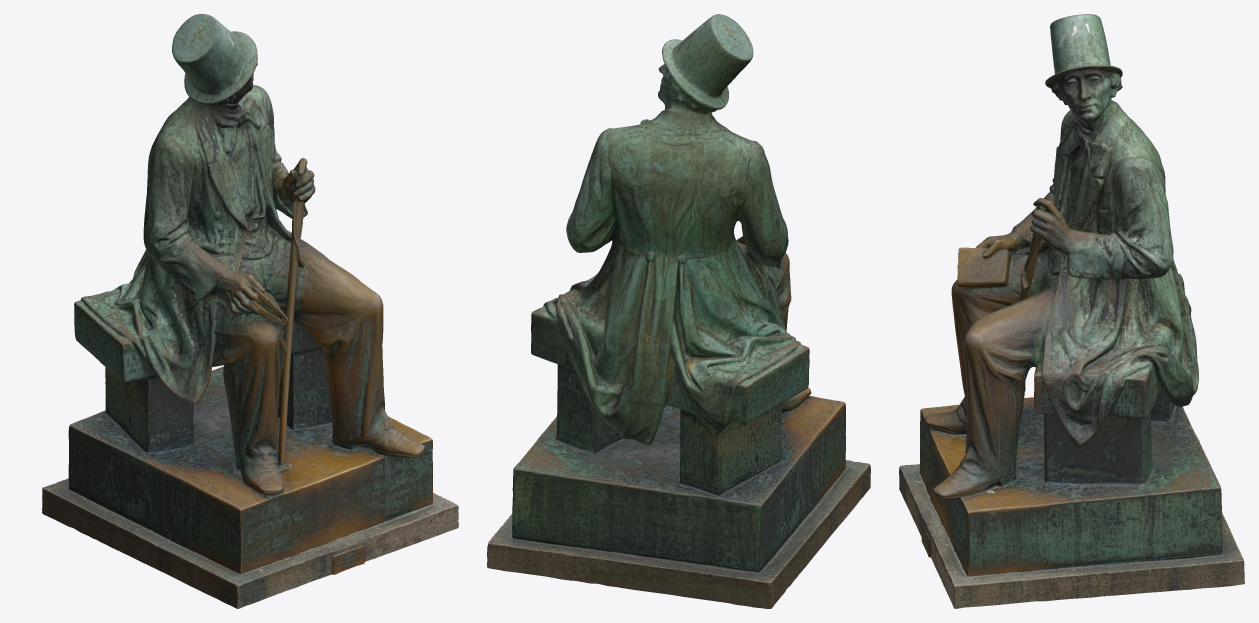
File: sf-hans-christian-andersen-74f1cb.glb
3 views of the same model, side by side, from view 1: azimuth 30°, elevation 25°; view 2: azimuth 150°, elevation 25°; view 3: azimuth 270°, elevation 25° (orthographic). The views are drawn at different scales.
Visible parts, largest first — view 1: Object_2; view 2: Object_2; view 3: Object_2.
Part boxes in pixels (x1,y1,x2,y2): Object_2: (42, 14, 458, 608); Object_2: (487, 14, 870, 608); Object_2: (899, 14, 1244, 608).
Size of the model in its own units: 30.78 by 43.65 by 27.07.
1 material, 1 textured.
